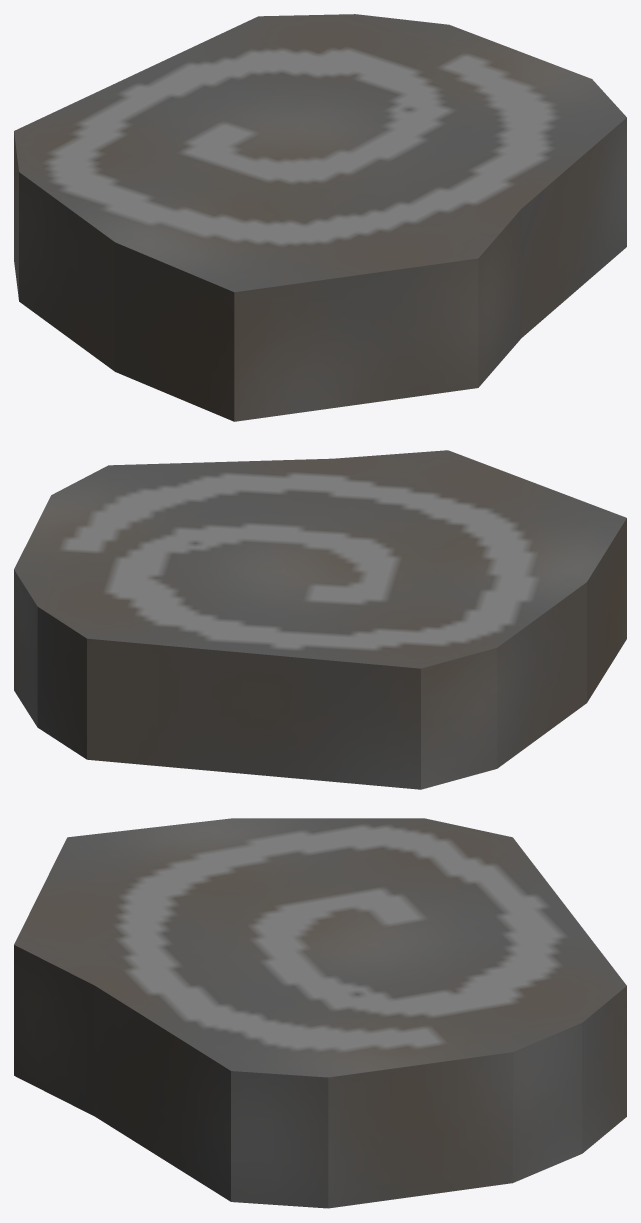
The model's file is ishi_ALL.fbx.
3 renders of one model, top to bottom at view 1: azimuth 30°, elevation 25°; view 2: azimuth 150°, elevation 25°; view 3: azimuth 270°, elevation 25°, orthographic. The views are drawn at different scales.
Parts seen in each view (by area): view 1: ishi; view 2: ishi; view 3: ishi.
Boxes of the visible parts, x1,y1,x2,y2 form: ishi: [14, 14, 626, 421]; ishi: [14, 450, 626, 789]; ishi: [14, 818, 626, 1208].
Bounding box in the file's own units: 19.76 × 4.66 × 19.76.
1 material, 1 textured.
